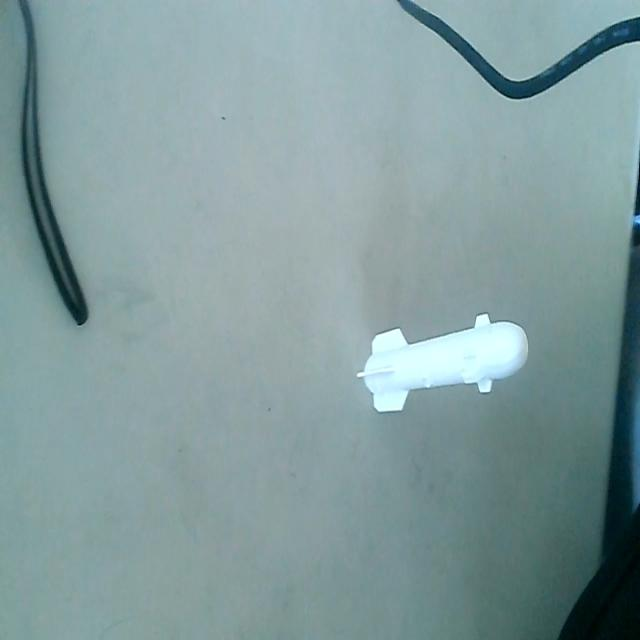Rocket: (355, 319, 532, 421)
